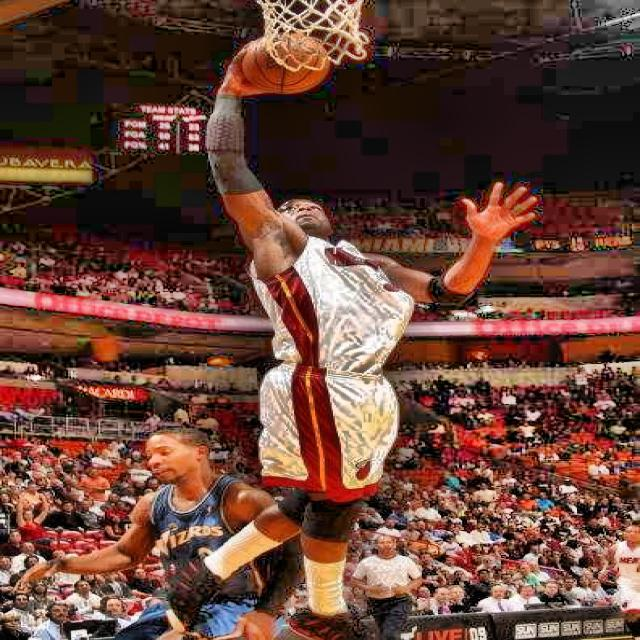board: (242, 33, 332, 95)
rim: (166, 89, 542, 640)
